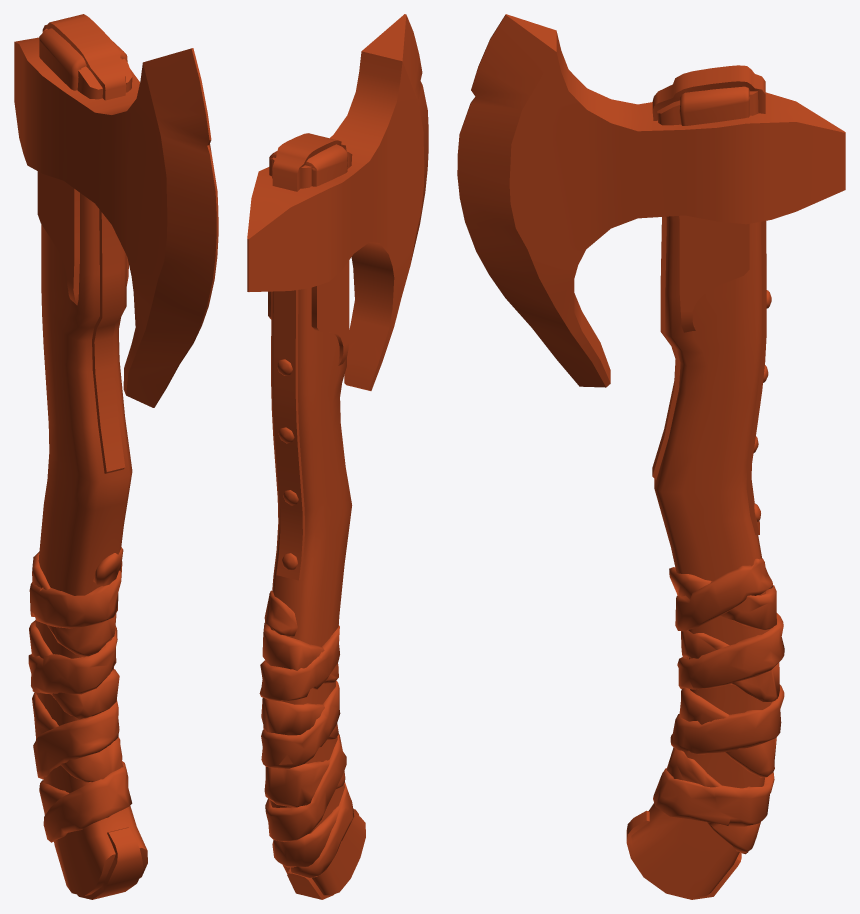
The model's file is rpg_axe.FBX.
The picture shows the model from 3 angles, left to right: view 1: azimuth 30°, elevation 25°; view 2: azimuth 150°, elevation 25°; view 3: azimuth 270°, elevation 25°; orthographic projection. The views are drawn at different scales.
Parts seen in each view (by area): view 1: rpg_axe_material; view 2: rpg_axe_material; view 3: rpg_axe_material.
Boxes of the visible parts, <box> form: rpg_axe_material: <box>14,14,218,899</box>; rpg_axe_material: <box>247,14,428,899</box>; rpg_axe_material: <box>457,14,845,899</box>.
Bounding box in the file's own units: 7.61 × 84.2 × 33.74.
